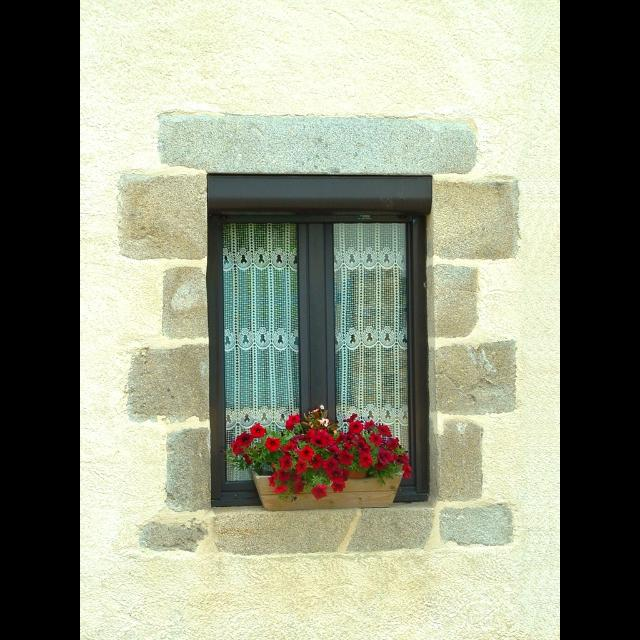Flower: (227, 409, 407, 501), (402, 464, 410, 481)
